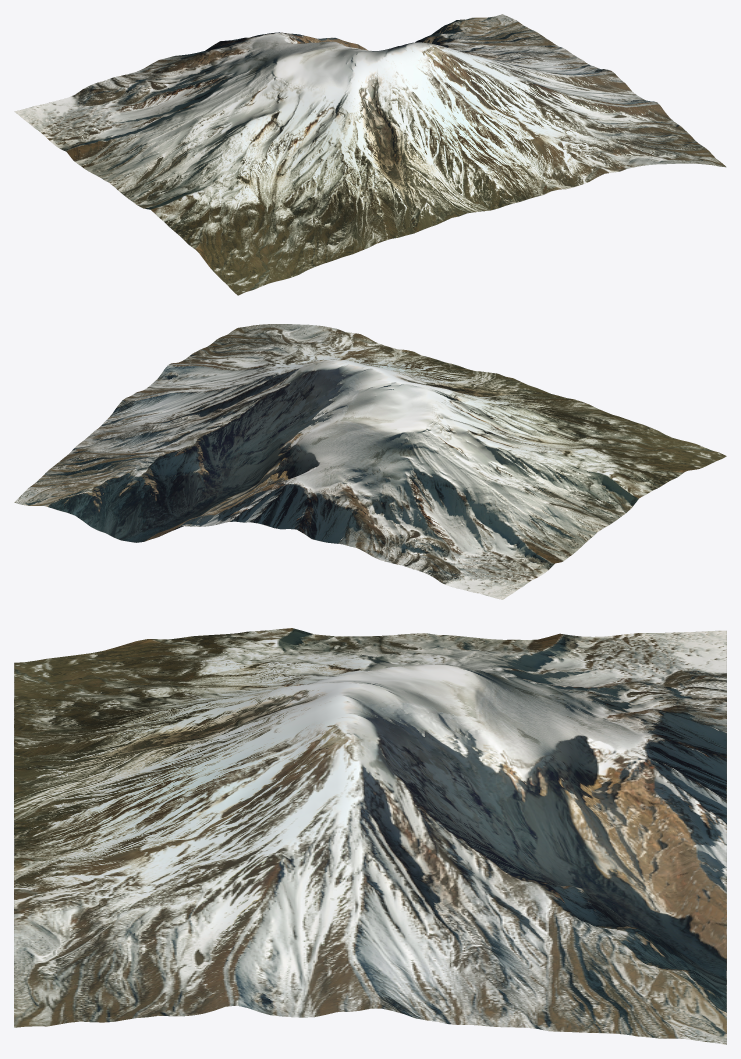
Rendered from mount_ararat_turkey__close-up_3d_360.glb.
3 renders of one model, top to bottom at view 1: azimuth 30°, elevation 25°; view 2: azimuth 150°, elevation 25°; view 3: azimuth 270°, elevation 25°, orthographic. The views are drawn at different scales.
Visible parts, largest first — view 1: Object_2; view 2: Object_2; view 3: Object_2.
Part boxes in pixels (x1,y1,x2,y2): Object_2: [14, 14, 726, 295]; Object_2: [14, 324, 726, 599]; Object_2: [14, 628, 726, 1044].
Bounding box in the file's own units: 10395 × 2355 × 8255.
1 material, 1 textured.
